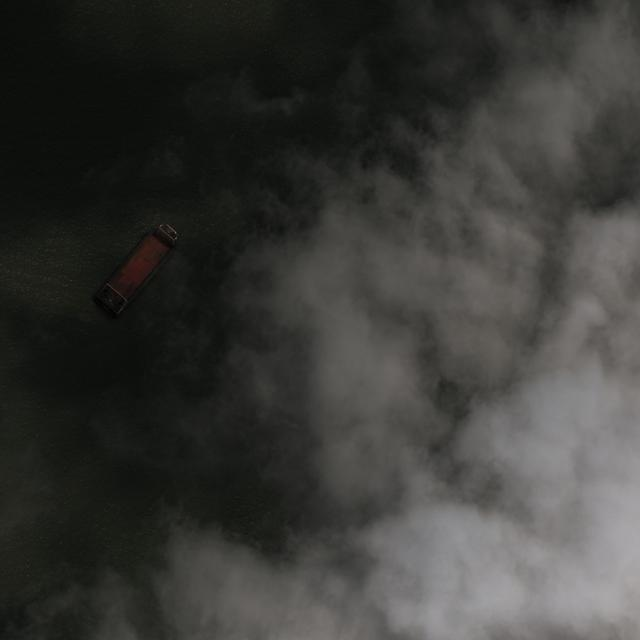Cargo: (91, 216, 187, 319)
